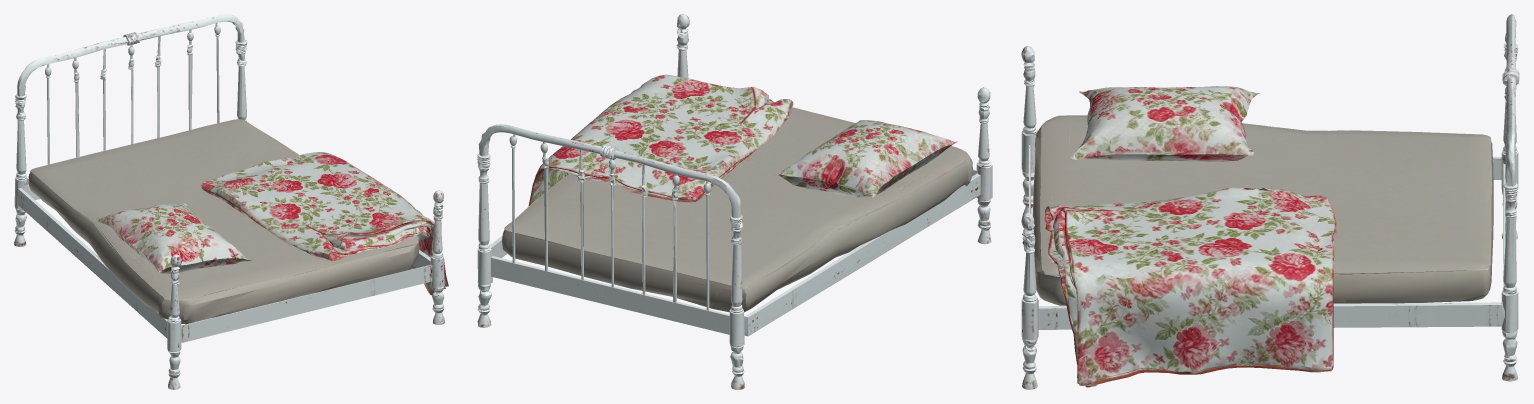
File: iron_bed.glb
The picture shows the model from 3 angles, left to right: view 1: azimuth 30°, elevation 25°; view 2: azimuth 150°, elevation 25°; view 3: azimuth 270°, elevation 25°; orthographic projection. The views are drawn at different scales.
Size of the model in its own units: 1.8 by 1.06 by 2.
Materials: 1 (1 with a texture image).
